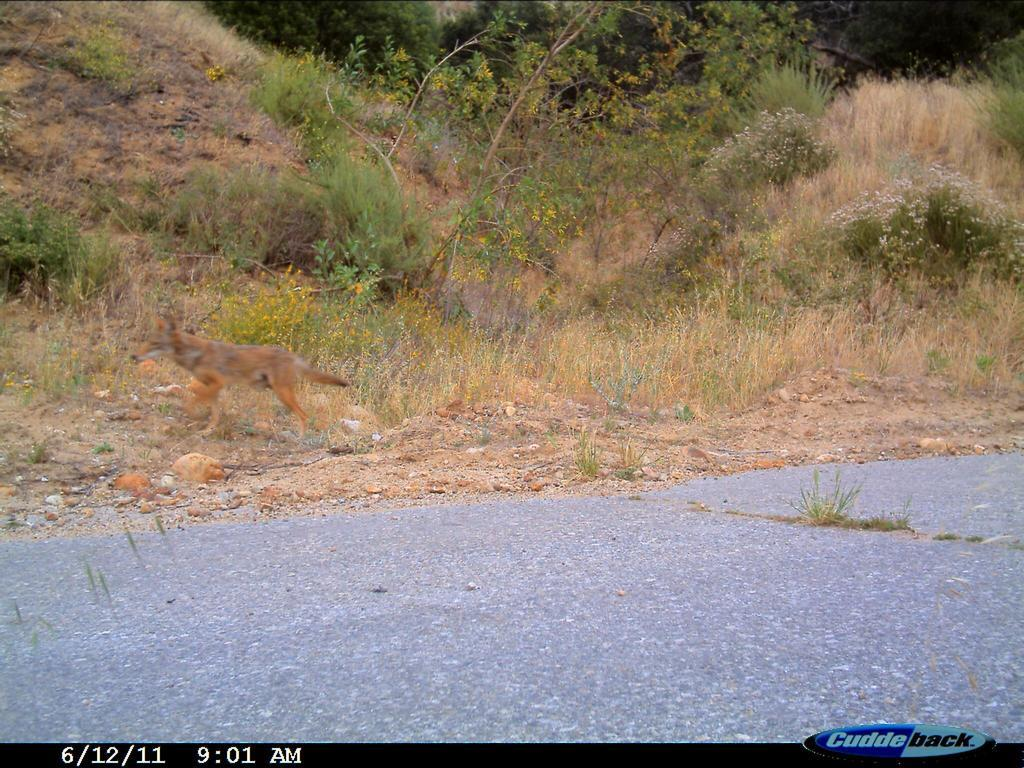coyote: (124, 307, 357, 447)
